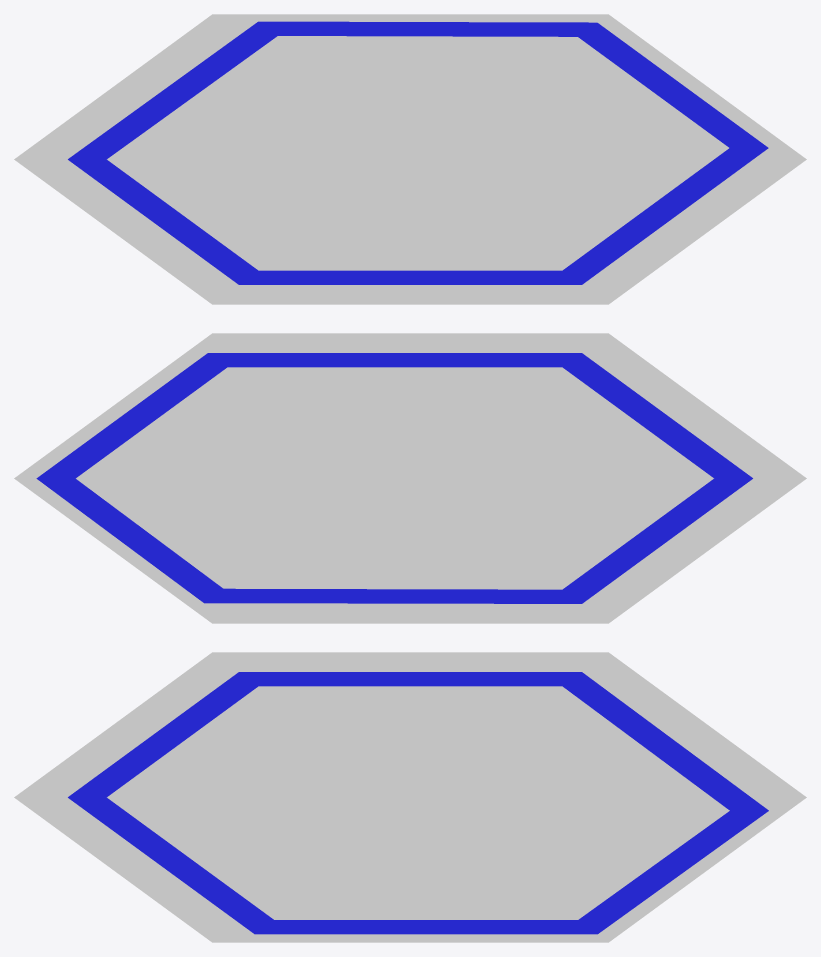
The model's file is HighLightCell.fbx.
3 views of the same model, one above another, from view 1: azimuth 30°, elevation 25°; view 2: azimuth 150°, elevation 25°; view 3: azimuth 270°, elevation 25° (orthographic).
Visible parts, largest first — view 1: Circle.001; view 2: Circle.001; view 3: Circle.001.
Part boxes in pixels (<box>): Circle.001: <box>14,14,806,304</box>; Circle.001: <box>14,333,806,623</box>; Circle.001: <box>14,652,806,942</box>.
Size of the model in its own units: 173 by 3.26e-05 by 200.
